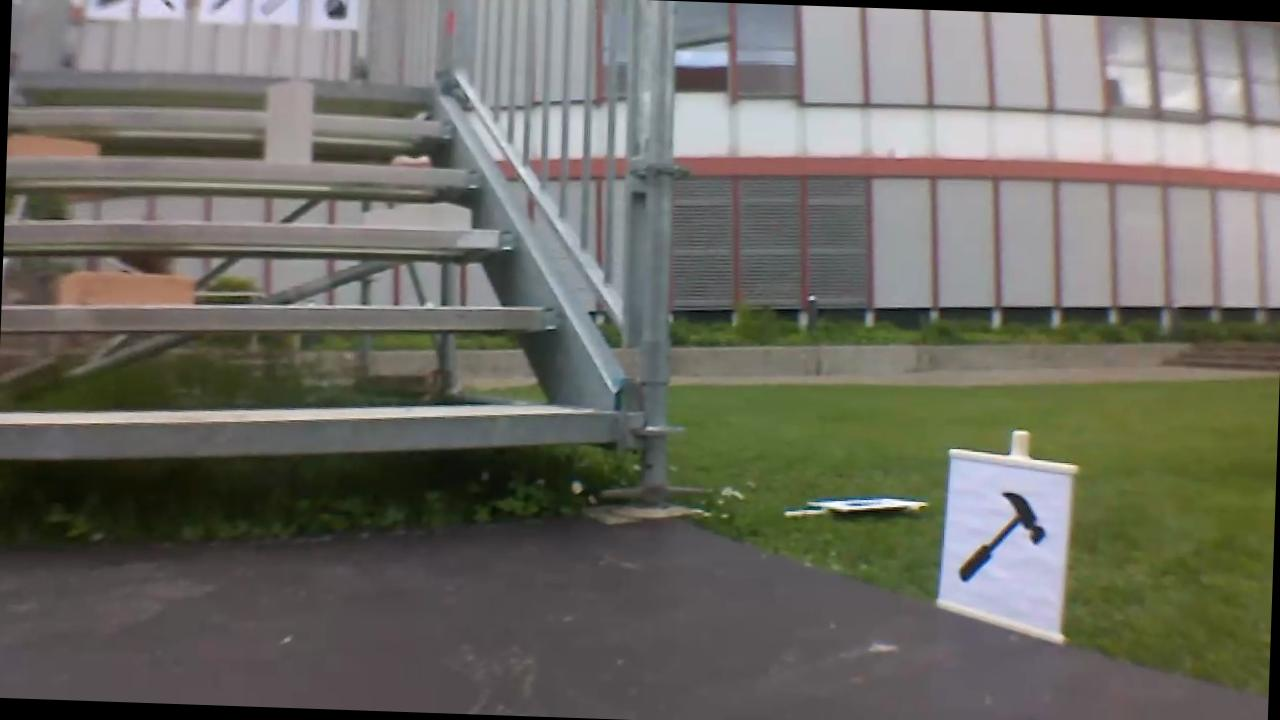brick: (57, 270, 192, 308), (267, 80, 311, 165), (9, 134, 96, 158)
edge: (2, 288, 561, 348), (5, 210, 518, 258), (8, 149, 482, 188), (9, 105, 459, 139), (18, 68, 435, 99)
hammer: (948, 483, 1052, 592)
